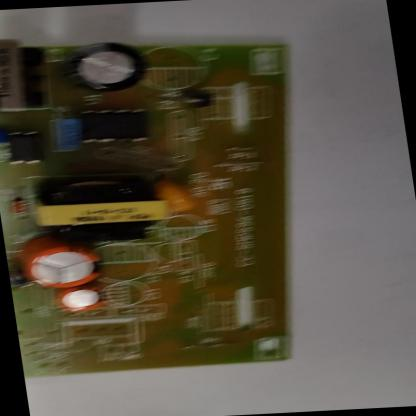Cap1: (20, 242, 103, 290)
Cap2: (54, 285, 106, 314)
Cap3: (67, 41, 144, 95)
MOSFET: (78, 108, 151, 146)
Mov: (0, 125, 4, 147)
Transformer: (31, 176, 167, 243), (0, 37, 51, 112)
